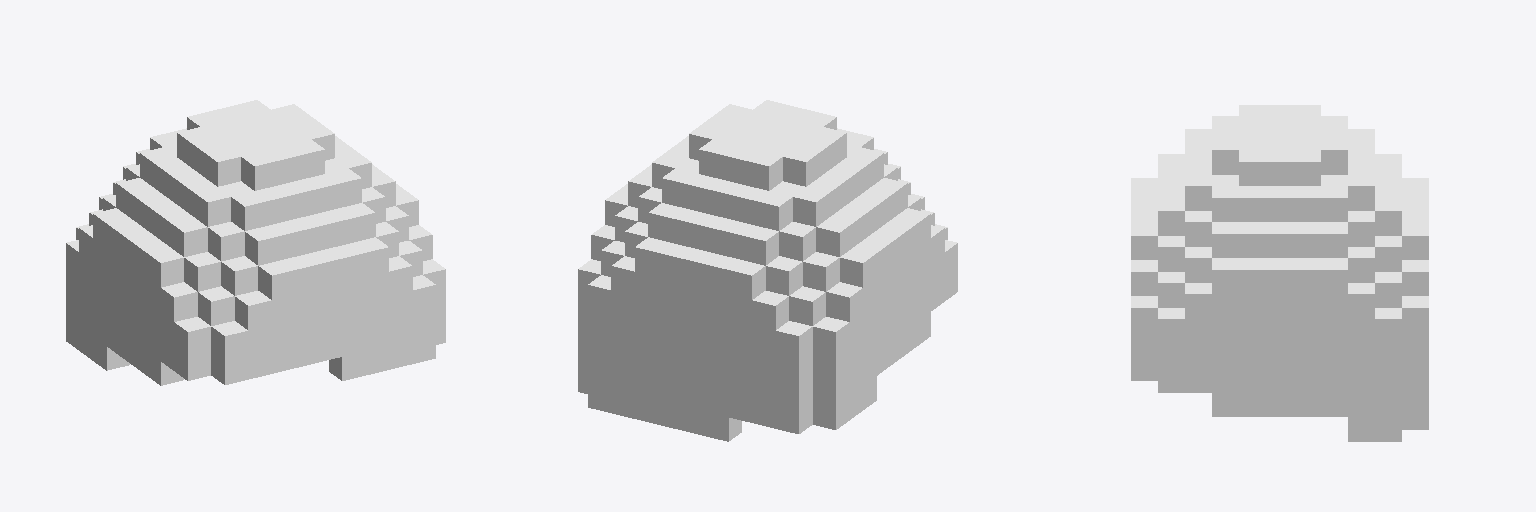
File: egg_gold_tophalf.obj
The picture shows the model from 3 angles: view 1: azimuth 30°, elevation 25°; view 2: azimuth 150°, elevation 25°; view 3: azimuth 270°, elevation 25°; orthographic projection.
Parts seen in each view (by area): view 1: egg_gold_bottomhalf; view 2: egg_gold_bottomhalf; view 3: egg_gold_bottomhalf.
Part boxes in pixels (bbox=[...]): egg_gold_bottomhalf: bbox=[66, 100, 445, 385]; egg_gold_bottomhalf: bbox=[578, 100, 957, 441]; egg_gold_bottomhalf: bbox=[1131, 105, 1428, 441].
Size of the model in its own units: 1.1 by 1 by 1.1.